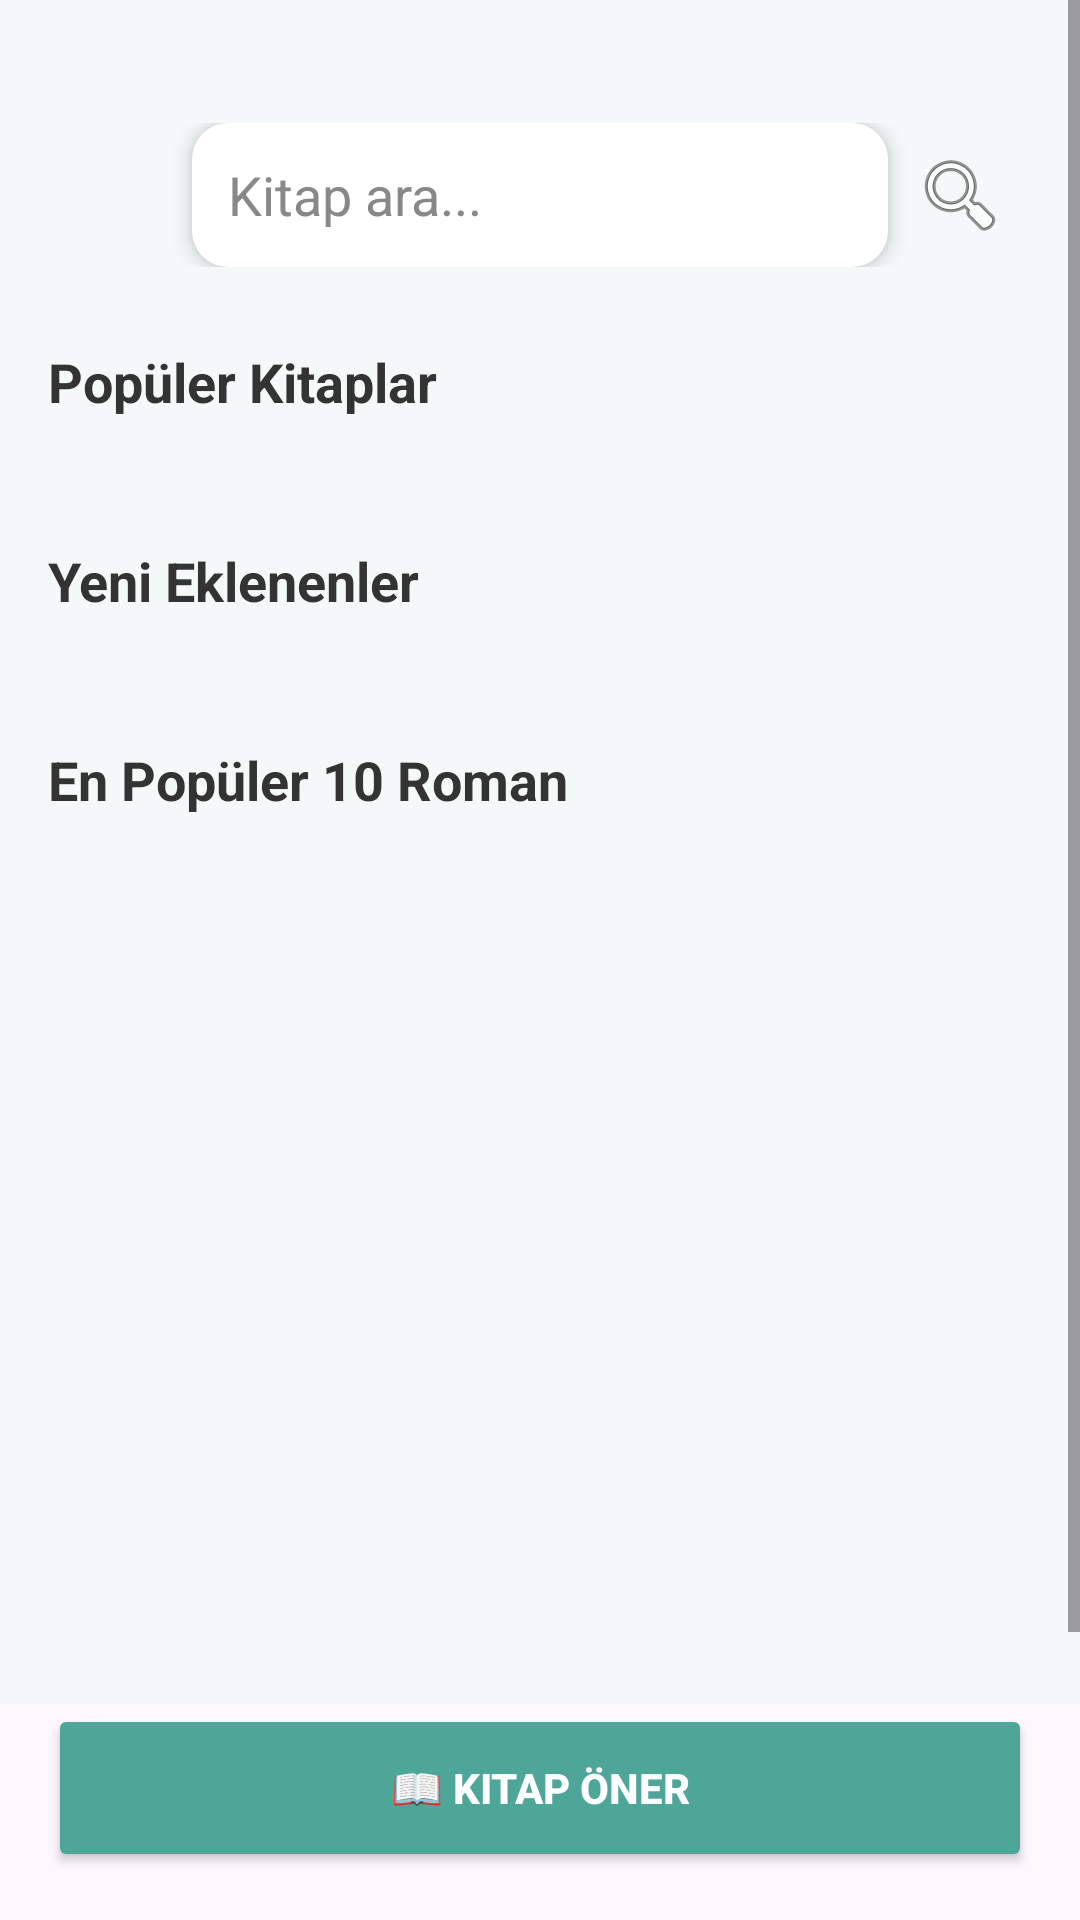

Icon click points for this 1080px x 1920px phone screenshot, format [x,y]:
Arama: [960,195]
